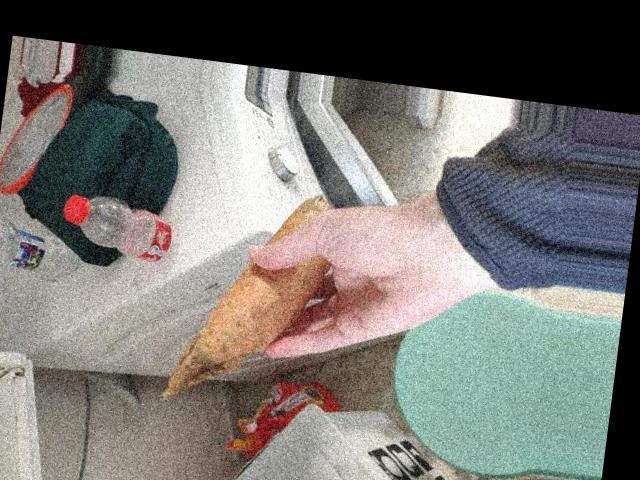sweet_potato: (195, 223, 328, 359)
